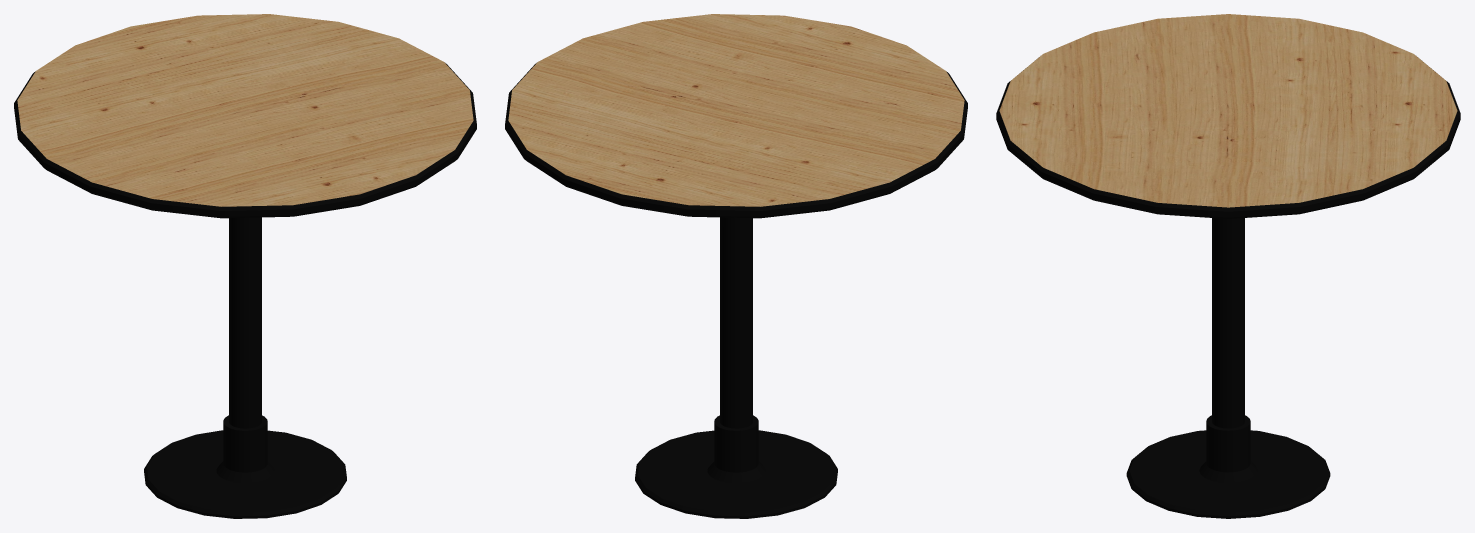
3 views of the same model, side by side, from view 1: azimuth 30°, elevation 25°; view 2: azimuth 150°, elevation 25°; view 3: azimuth 270°, elevation 25° (orthographic).
Parts seen in each view (by area): view 1: cafe_tableL WOOD_TOP, cafe_tableL BLACK, cafe_tableL CHROME; view 2: cafe_tableL WOOD_TOP, cafe_tableL BLACK, cafe_tableL CHROME; view 3: cafe_tableL WOOD_TOP, cafe_tableL BLACK, cafe_tableL CHROME.
Part boxes in pixels (x1=…): cafe_tableL WOOD_TOP: x1=17, y1=14, x2=473, y2=206; cafe_tableL BLACK: x1=14, y1=63, x2=476, y2=518; cafe_tableL CHROME: x1=229, y1=217, x2=261, y2=428; cafe_tableL WOOD_TOP: x1=508, y1=14, x2=964, y2=206; cafe_tableL BLACK: x1=505, y1=63, x2=967, y2=518; cafe_tableL CHROME: x1=720, y1=217, x2=752, y2=428; cafe_tableL WOOD_TOP: x1=999, y1=14, x2=1457, y2=207; cafe_tableL BLACK: x1=996, y1=68, x2=1460, y2=518; cafe_tableL CHROME: x1=1212, y1=218, x2=1244, y2=428.
Bounding box in the file's own units: 1.27 × 1.1 × 1.27.
Materials: 3 (1 with a texture image).
